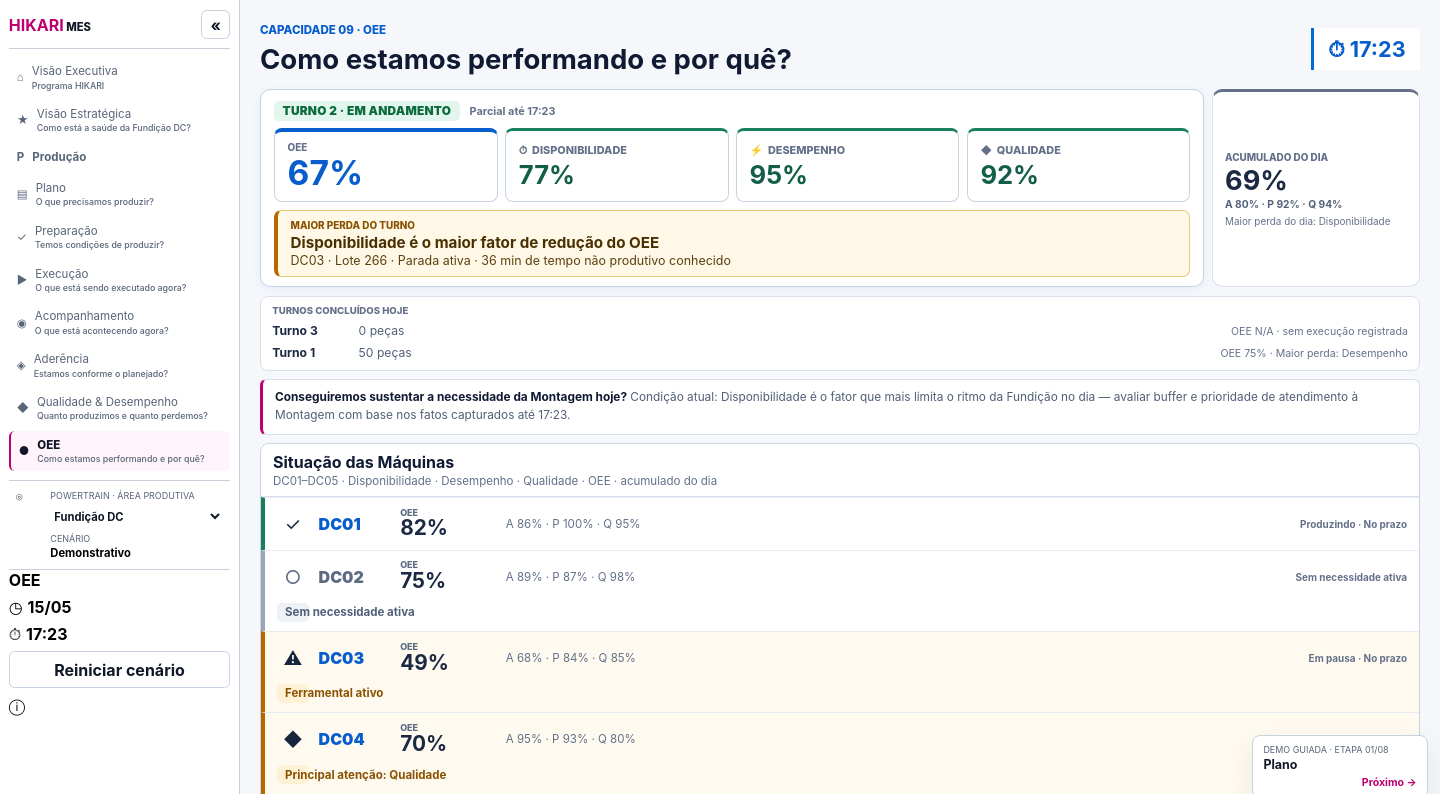
it: opens Resource and Turno-scoped dimension drill-downs, and keeps details collapsed by default
Click the button "DC03": x=341, y=658 [261, 631, 1419, 712]
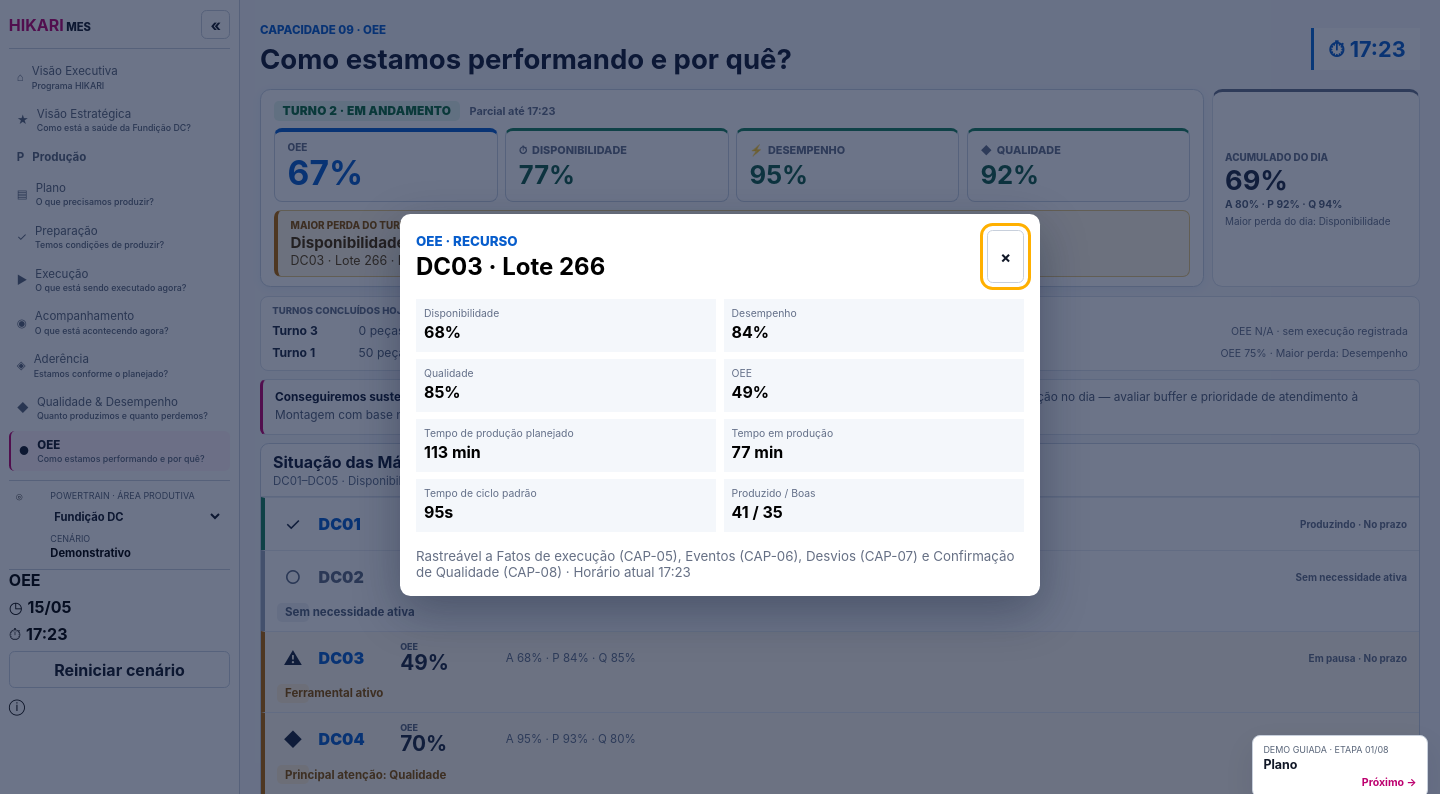
expect the dialog "DC03" shows "Tempo de produção planejado": met, box [424, 428, 574, 440]
Click the button named "Fechar contexto de OEE": x=1006, y=257 [987, 230, 1024, 284]
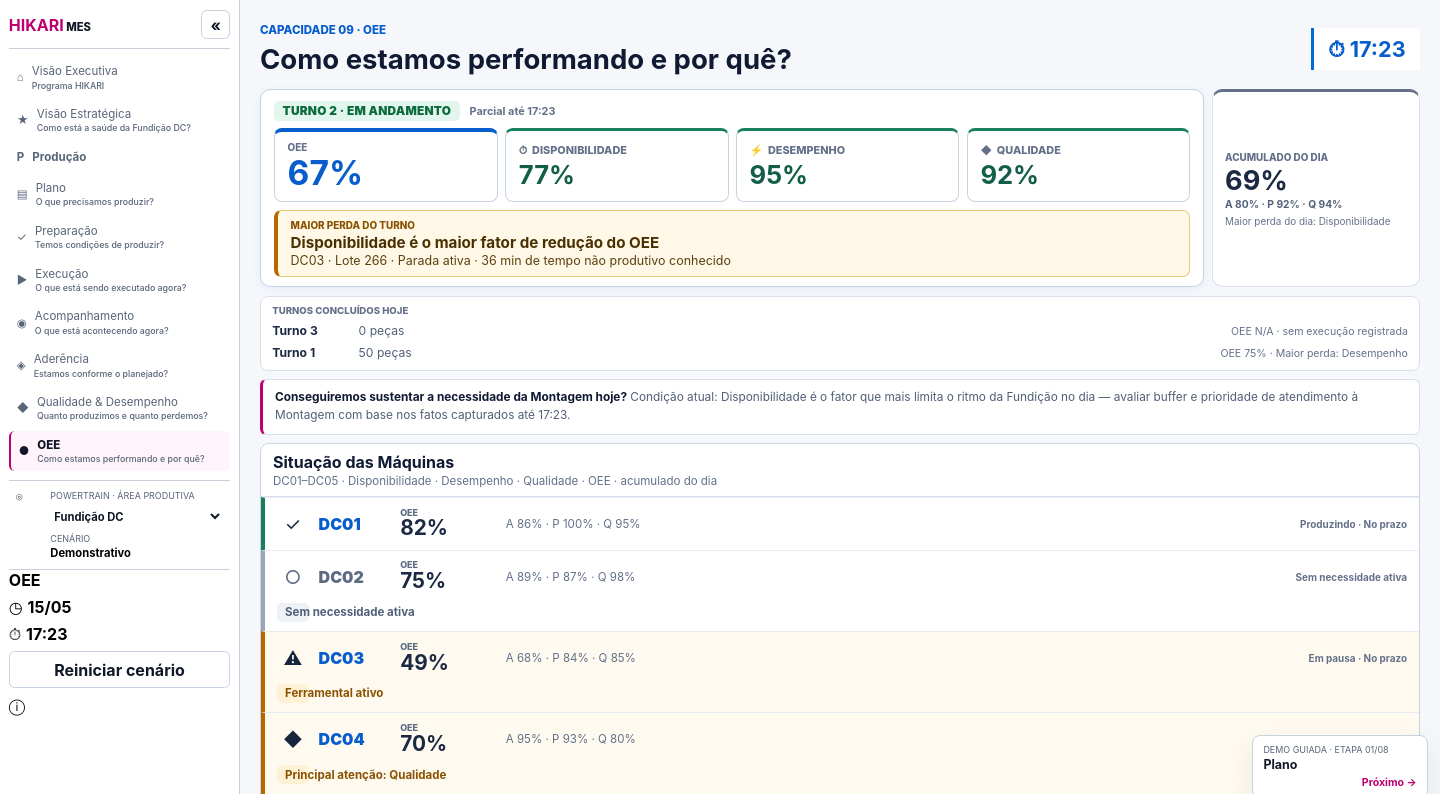
Click the button "⏱ Disponibilidade 77%": x=617, y=165 [505, 128, 729, 202]
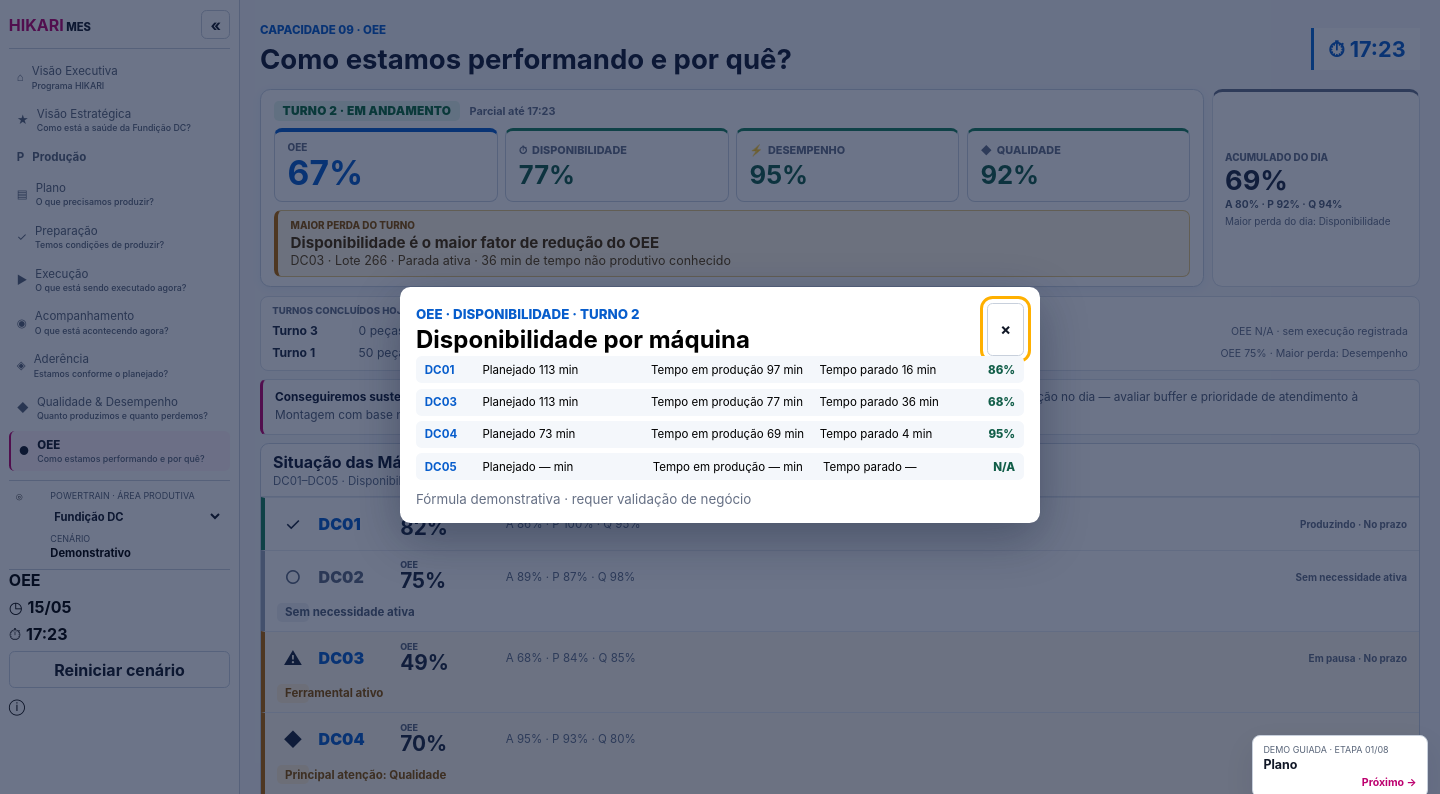
expect the dialog "DISPONIBILIDADE" shows "Planejado": met, box [482, 363, 539, 377]
expect the dialog "DISPONIBILIDADE" shows "TURNO 2": met, box [580, 306, 639, 322]
